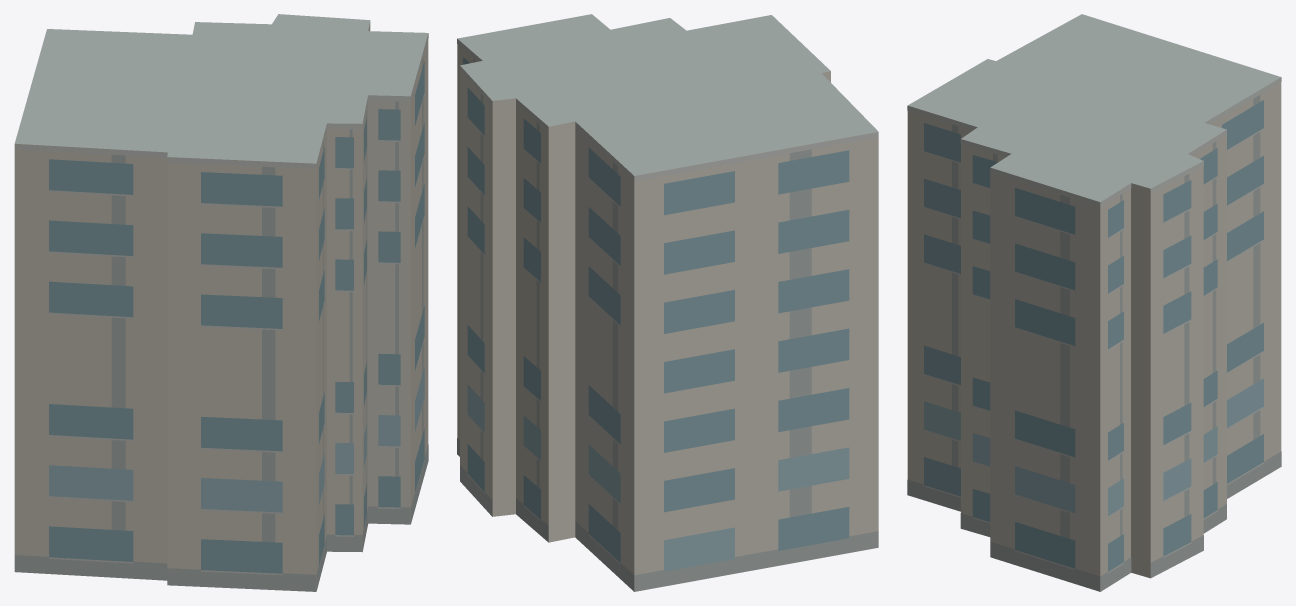
File: survey-upis-32673418.glb
The picture shows the model from 3 angles, left to right: view 1: azimuth 30°, elevation 25°; view 2: azimuth 150°, elevation 25°; view 3: azimuth 270°, elevation 25°; orthographic projection. The views are drawn at different scales.
Visible parts, largest first — view 1: survey-upis-32673418.tmp; view 2: survey-upis-32673418.tmp; view 3: survey-upis-32673418.tmp.
Boxes of the visible parts, x1,y1,x2,y2 form: survey-upis-32673418.tmp: (14, 14, 428, 591); survey-upis-32673418.tmp: (457, 14, 878, 591); survey-upis-32673418.tmp: (907, 14, 1281, 591).
Size of the model in its own units: 19.48 by 18.8 by 16.36.
